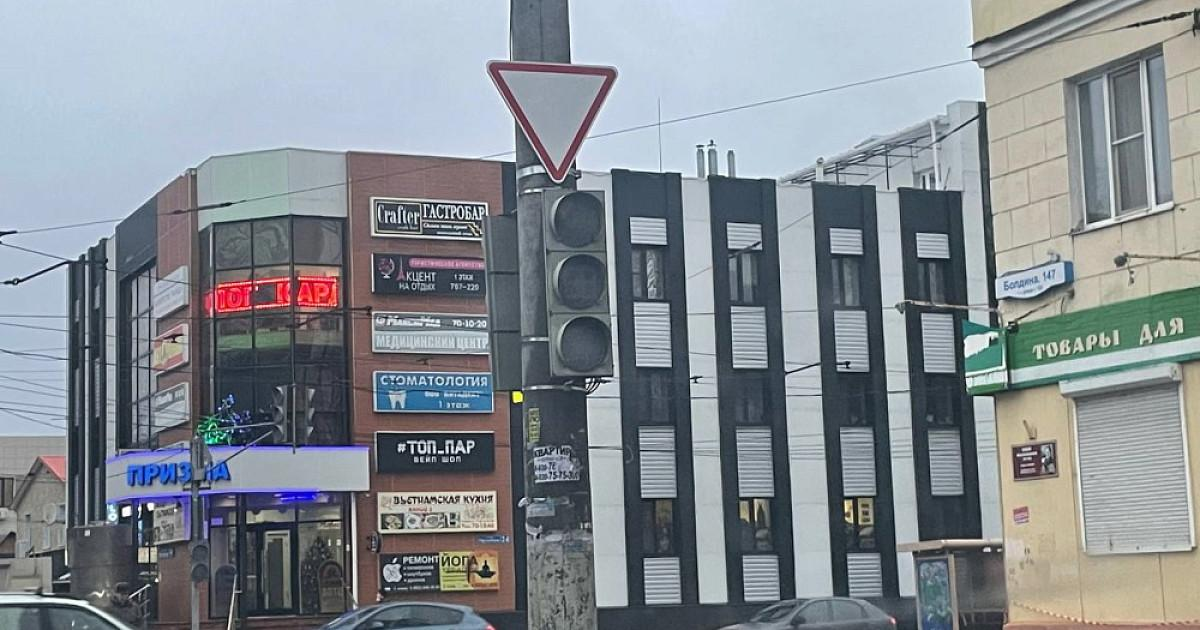off traffic light: (544, 189, 613, 376), (190, 542, 210, 582)
road_sign: (487, 61, 617, 181)
